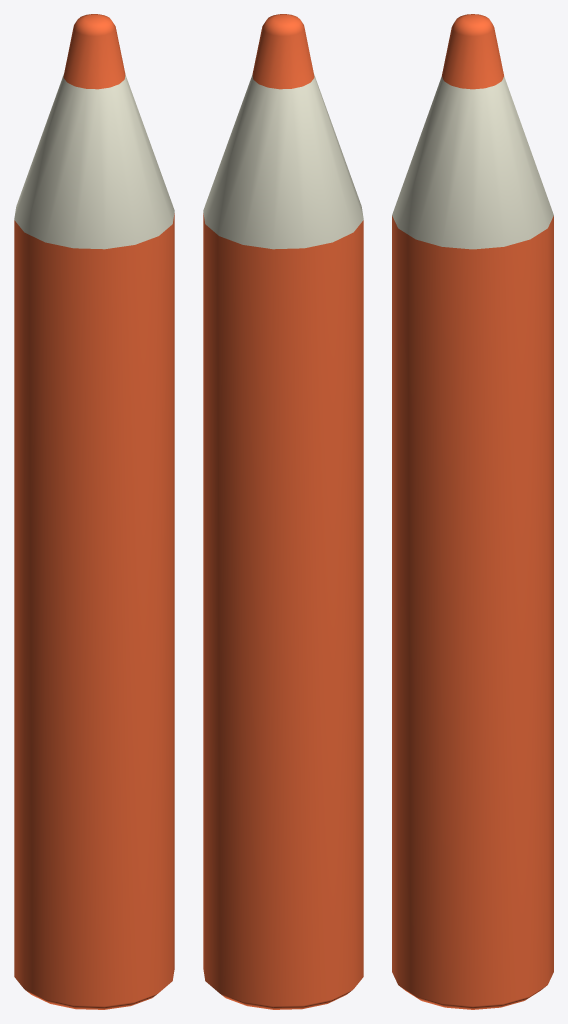
The model's file is Public_8_Pencil_4.glb.
The picture shows the model from 3 angles, left to right: view 1: azimuth 30°, elevation 25°; view 2: azimuth 150°, elevation 25°; view 3: azimuth 270°, elevation 25°; orthographic projection.
Parts seen in each view (by area): view 1: Public_8_Pencil_4; view 2: Public_8_Pencil_4; view 3: Public_8_Pencil_4.
Part boxes in pixels (x1,y1,x2,y2): Public_8_Pencil_4: [14, 14, 174, 1009]; Public_8_Pencil_4: [203, 14, 363, 1009]; Public_8_Pencil_4: [392, 14, 553, 1009].
Size of the model in its own units: 0.1578 by 1.03 by 0.1578.
1 material, 1 textured.
